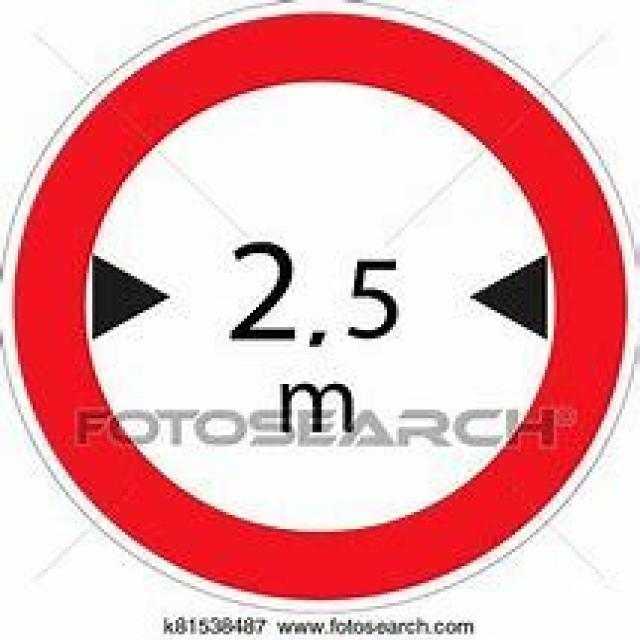width limit: (14, 20, 620, 608)
